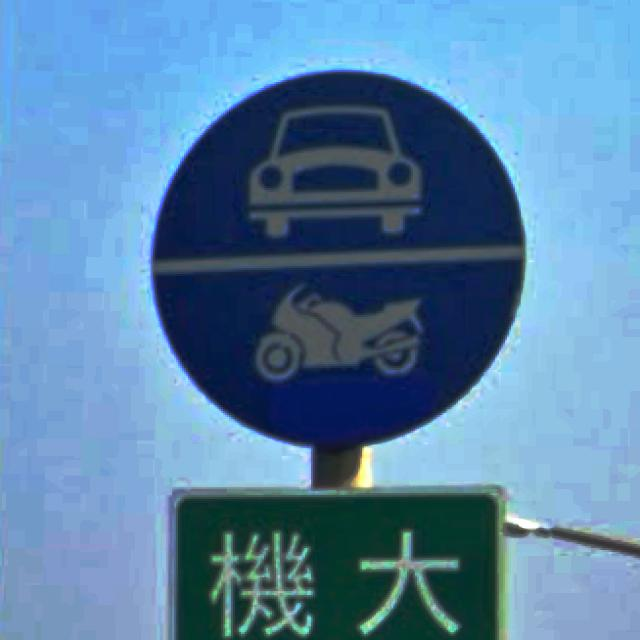carmotorcycle: (153, 72, 523, 444)
